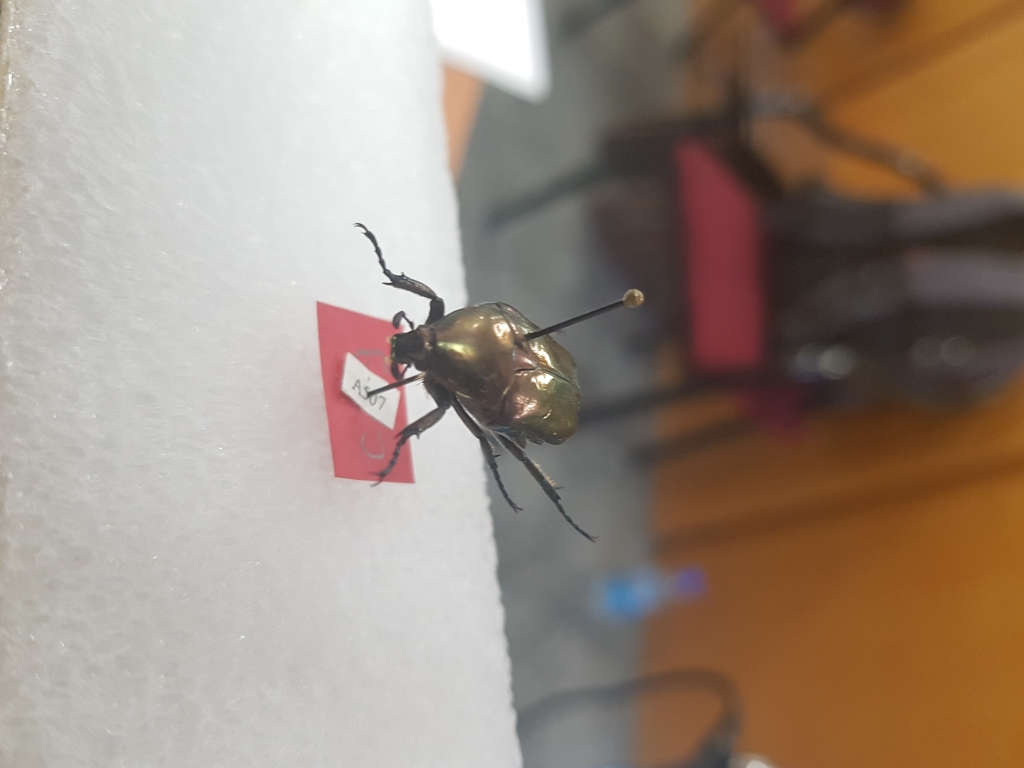Protaetia_besucheti: (339, 214, 615, 564)
